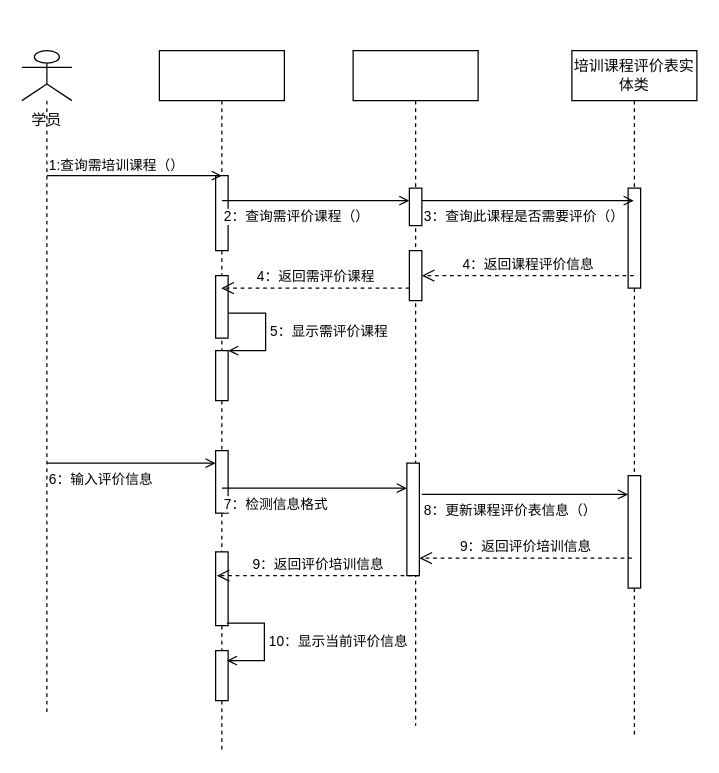
Image size: 719x773. Some labels were removed from this diagram. The box of each missing label's shape, as (x1, y1, x2, y2) in pixels:
评价培训课程控制类: (352, 49, 478, 726)
评价培训课程边界类: (158, 49, 284, 751)
